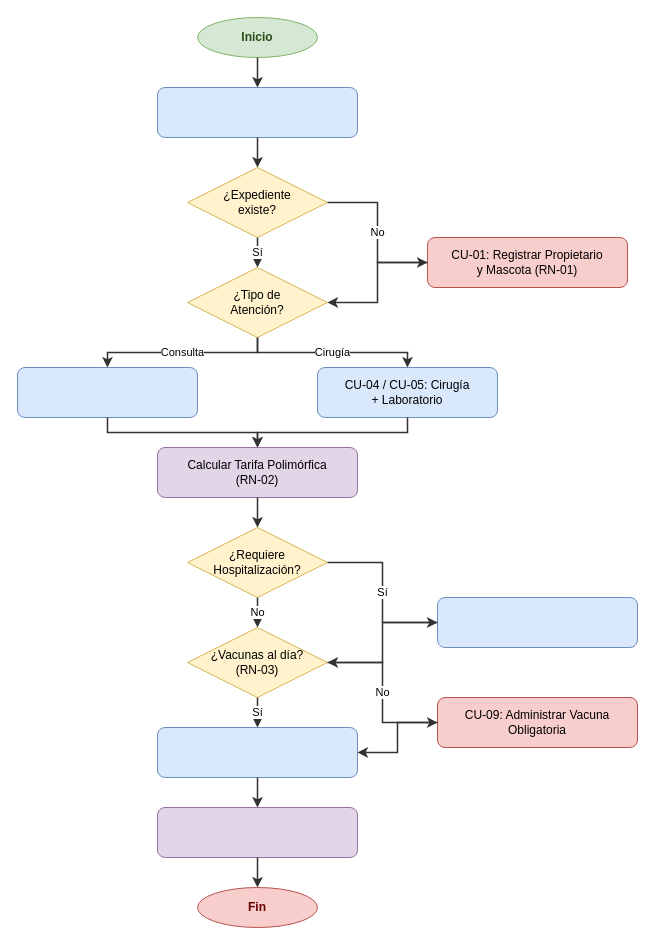
This 655x945 diagram has some shape labels left out. The shapes that lost their labels are listed below. From the top down, each one's centre as x and y in pixels, then its label:
the point at 257,112: Ingresar ID Expediente Paciente / Propietario
the point at 107,392: CU-03: Consulta General + Receta Farmacia
the point at 537,622: CU-07: Internar Paciente (RN-04)
the point at 257,752: CU-08: Facturación Consolidada y Alta Médica
the point at 257,832: CU-10: Actualizar KPIs (RN-05)
